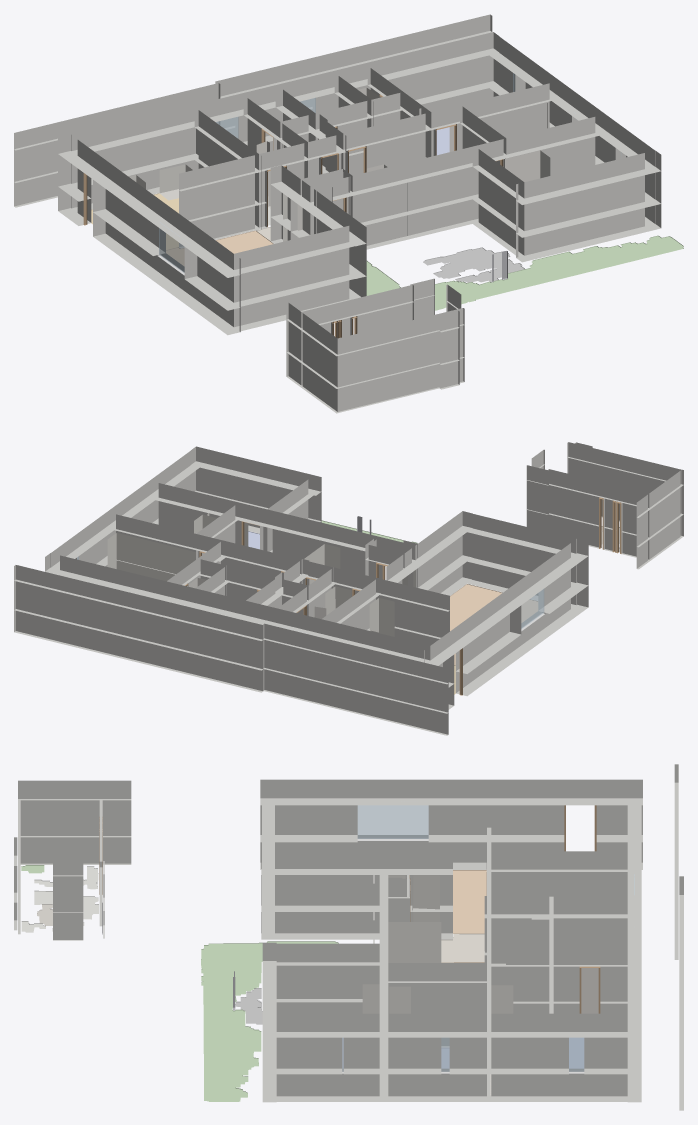
3 renders of one model, top to bottom at view 1: azimuth 30°, elevation 25°; view 2: azimuth 150°, elevation 25°; view 3: azimuth 270°, elevation 25°, orthographic. The views are drawn at different scales.
Visible parts, largest first — view 1: walls, floor_14_Outdoor, floor_17_Garage, furniture_12_closet, floor_1_Living_Room, window_9, furniture_19_sink; view 2: walls, furniture_7_closet, floor_1_Living_Room, furniture_5_closet, furniture_8_closet, window_9; view 3: walls, floor_14_Outdoor, window_9, furniture_8_closet, floor_1_Living_Room, floor_2_Entry, furniture_9_closet, floor_18_Undefined, furniture_0_closet, furniture_7_closet, floor_17_Garage, furniture_10_closet (+2 smaller).
Part boxes in pixels (box(x1,y1,x2,y2)): walls: box(14, 14, 661, 413); floor_14_Outdoor: box(366, 235, 683, 310); floor_17_Garage: box(423, 247, 524, 282); furniture_12_closet: box(505, 150, 550, 182); floor_1_Living_Room: box(166, 230, 273, 265); window_9: box(159, 222, 184, 272); furniture_19_sink: box(159, 164, 192, 200); walls: box(14, 442, 683, 735); furniture_7_closet: box(107, 533, 195, 581); floor_1_Living_Room: box(450, 584, 537, 665); furniture_5_closet: box(369, 598, 394, 636); furniture_8_closet: box(304, 544, 340, 584); window_9: box(521, 589, 544, 628); walls: box(14, 764, 683, 1110); floor_14_Outdoor: box(201, 941, 338, 1101); window_9: box(357, 805, 428, 838); furniture_8_closet: box(388, 922, 441, 962); floor_1_Living_Room: box(453, 870, 486, 933); floor_2_Entry: box(441, 933, 484, 962); furniture_9_closet: box(412, 875, 439, 921); floor_18_Undefined: box(34, 866, 98, 919); furniture_0_closet: box(581, 968, 598, 1013); furniture_7_closet: box(490, 985, 513, 1095); floor_17_Garage: box(235, 988, 262, 1024); furniture_10_closet: box(389, 986, 410, 1013).
Bounding box in the file's own units: 18.4 × 2.72 × 19.76.
